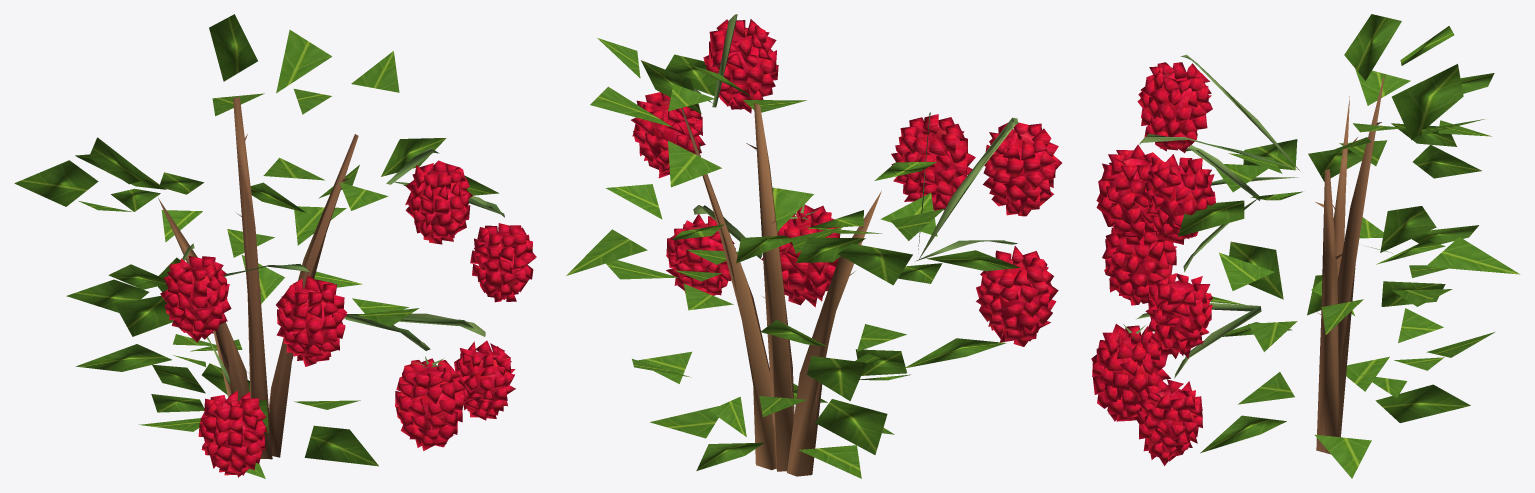
Rendered from NP_Raspberry_Ready_LOD1.fbx.
3 views of the same model, side by side, from view 1: azimuth 30°, elevation 25°; view 2: azimuth 150°, elevation 25°; view 3: azimuth 270°, elevation 25° (orthographic). The views are drawn at different scales.
Visible parts, largest first — view 1: NP_Raspberry_Ready; view 2: NP_Raspberry_Ready; view 3: NP_Raspberry_Ready.
Boxes of the visible parts, x1,y1,x2,y2 form: NP_Raspberry_Ready: [14, 14, 536, 478]; NP_Raspberry_Ready: [566, 14, 1061, 478]; NP_Raspberry_Ready: [1091, 14, 1520, 478].
Bounding box in the file's own units: 92.5 × 93.65 × 85.69.
